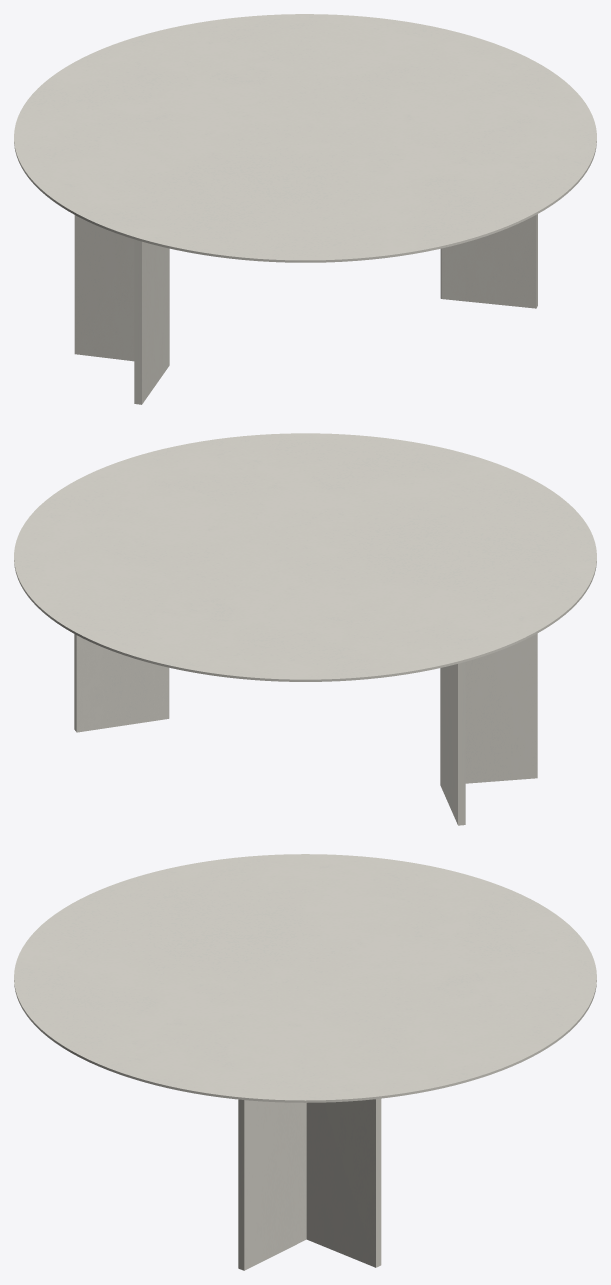
File: pale_round_facet_valleyv.glb
3 views of the same model, one above another, from view 1: azimuth 30°, elevation 25°; view 2: azimuth 150°, elevation 25°; view 3: azimuth 270°, elevation 25° (orthographic).
Visible parts, largest first — view 1: facet_round, valleyv; view 2: facet_round, valleyv; view 3: facet_round, valleyv.
Boxes of the visible parts, bbox=[...] form: facet_round: bbox=[14, 14, 596, 262]; valleyv: bbox=[74, 214, 537, 404]; facet_round: bbox=[14, 433, 596, 681]; valleyv: bbox=[74, 633, 537, 825]; facet_round: bbox=[14, 854, 596, 1102]; valleyv: bbox=[238, 1098, 381, 1270].
Bounding box in the file's own units: 6.75 × 2.49 × 6.75.
Materials: 1 (1 with a texture image).
